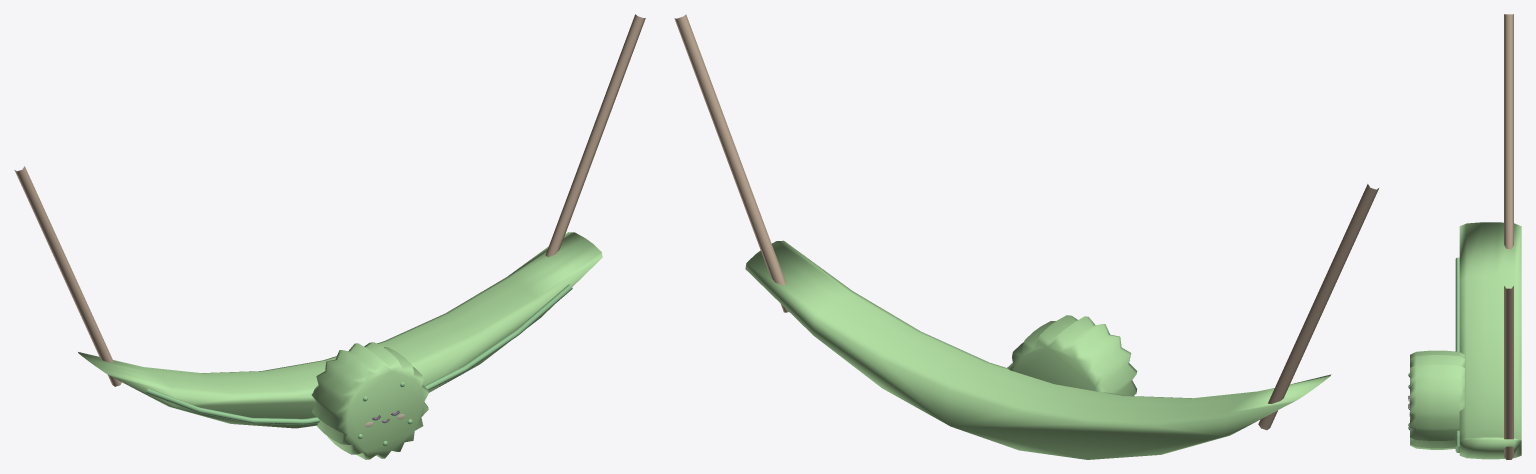
File: decor_1_classic.glb
3 views of the same model, side by side, from view 1: azimuth 30°, elevation 25°; view 2: azimuth 150°, elevation 25°; view 3: azimuth 270°, elevation 25° (orthographic). The views are drawn at different scales.
Visible parts, largest first — view 1: decor_1_classic; view 2: decor_1_classic; view 3: decor_1_classic.
Boxes of the visible parts, x1,y1,x2,y2 form: decor_1_classic: (14, 14, 645, 459); decor_1_classic: (674, 14, 1378, 459); decor_1_classic: (1408, 14, 1521, 459).
Bounding box in the file's own units: 19.24 × 9.71 × 3.36.
